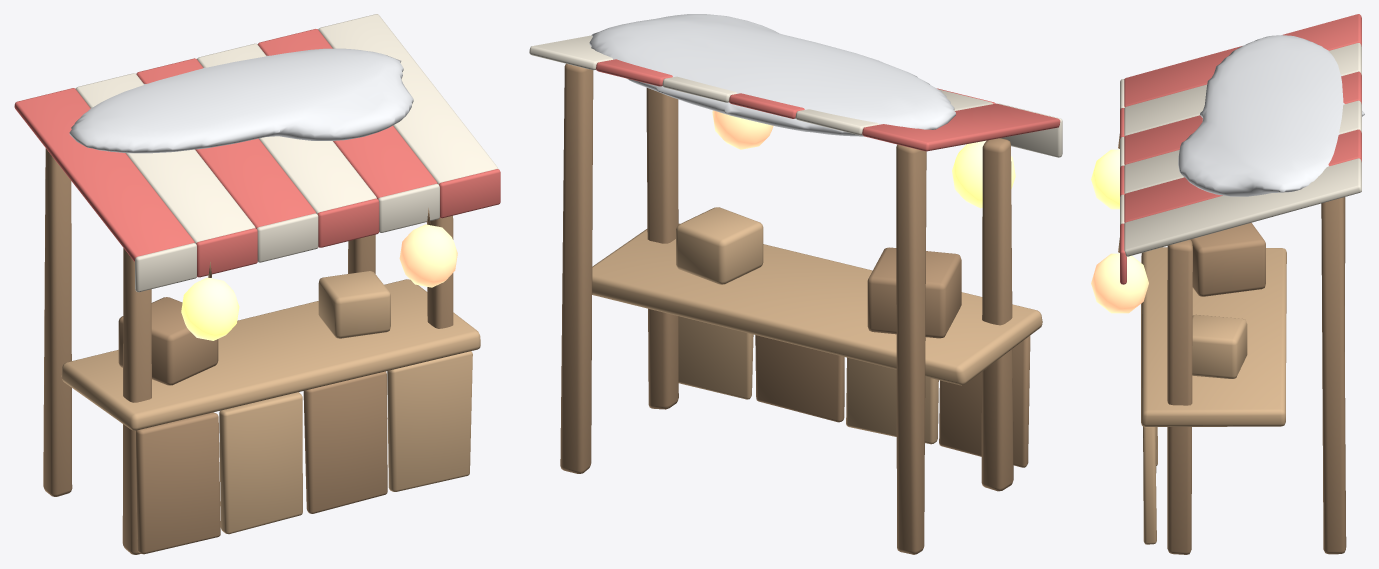
File: market_stall.glb
3 views of the same model, side by side, from view 1: azimuth 30°, elevation 25°; view 2: azimuth 150°, elevation 25°; view 3: azimuth 270°, elevation 25° (orthographic). The views are drawn at different scales.
Parts seen in each view (by area): view 1: AwningSnow, Counter, Awning, Front, Front.003, Front.001, Front.002, PostB, Awning.005, Awning.001, Awning.002, Awning.003 (+14 smaller); view 2: Counter, AwningSnow, PostB.001, PostB, PostF, PostF.001, Front.002, Box.001, Front, Box, Front.003, Awning (+9 smaller); view 3: AwningSnow, Counter, PostB.001, Awning.005, PostF.001, Box, Awning, Box.001, Awning.001, Awning.004, Awning.002, Lamp.001 (+4 smaller).
Boxes of the visible parts, left/top/right/bottom form: AwningSnow: left=69, top=48, right=413, bottom=153; Counter: left=61, top=279, right=480, bottom=430; Awning: left=14, top=88, right=194, bottom=261; Front: left=136, top=412, right=220, bottom=554; Front.003: left=387, top=351, right=472, bottom=491; Front.001: left=219, top=392, right=302, bottom=534; Front.002: left=303, top=371, right=387, bottom=513; PostB: left=43, top=148, right=72, bottom=496; Awning.005: left=318, top=14, right=498, bottom=184; Awning.001: left=75, top=73, right=255, bottom=243; Awning.002: left=136, top=58, right=316, bottom=228; Awning.003: left=197, top=43, right=376, bottom=213; Counter: left=592, top=223, right=1042, bottom=385; AwningSnow: left=589, top=14, right=955, bottom=136; PostB.001: left=560, top=63, right=593, bottom=473; PostB: left=896, top=144, right=926, bottom=554; PostF: left=981, top=138, right=1013, bottom=491; PostF.001: left=646, top=88, right=678, bottom=409; Front.002: left=755, top=335, right=844, bottom=422; Box.001: left=676, top=207, right=763, bottom=284; Front: left=939, top=336, right=1030, bottom=467; Box: left=867, top=247, right=961, bottom=338; Front.003: left=678, top=316, right=753, bottom=399; Awning: left=862, top=103, right=1060, bottom=151; AwningSnow: left=1178, top=35, right=1364, bottom=196; Counter: left=1141, top=247, right=1286, bottom=426; PostB.001: left=1321, top=197, right=1346, bottom=554; Awning.005: left=1124, top=158, right=1361, bottom=256; PostF.001: left=1167, top=239, right=1192, bottom=554; Box: left=1190, top=222, right=1265, bottom=296; Awning: left=1124, top=14, right=1361, bottom=106; Box.001: left=1192, top=314, right=1247, bottom=378; Awning.001: left=1124, top=43, right=1361, bottom=135; Awning.004: left=1124, top=129, right=1361, bottom=222; Awning.002: left=1124, top=71, right=1361, bottom=164; Lamp.001: left=1091, top=253, right=1148, bottom=313.
Bounding box in the file's own units: 2.4 × 2.46 × 1.6.
